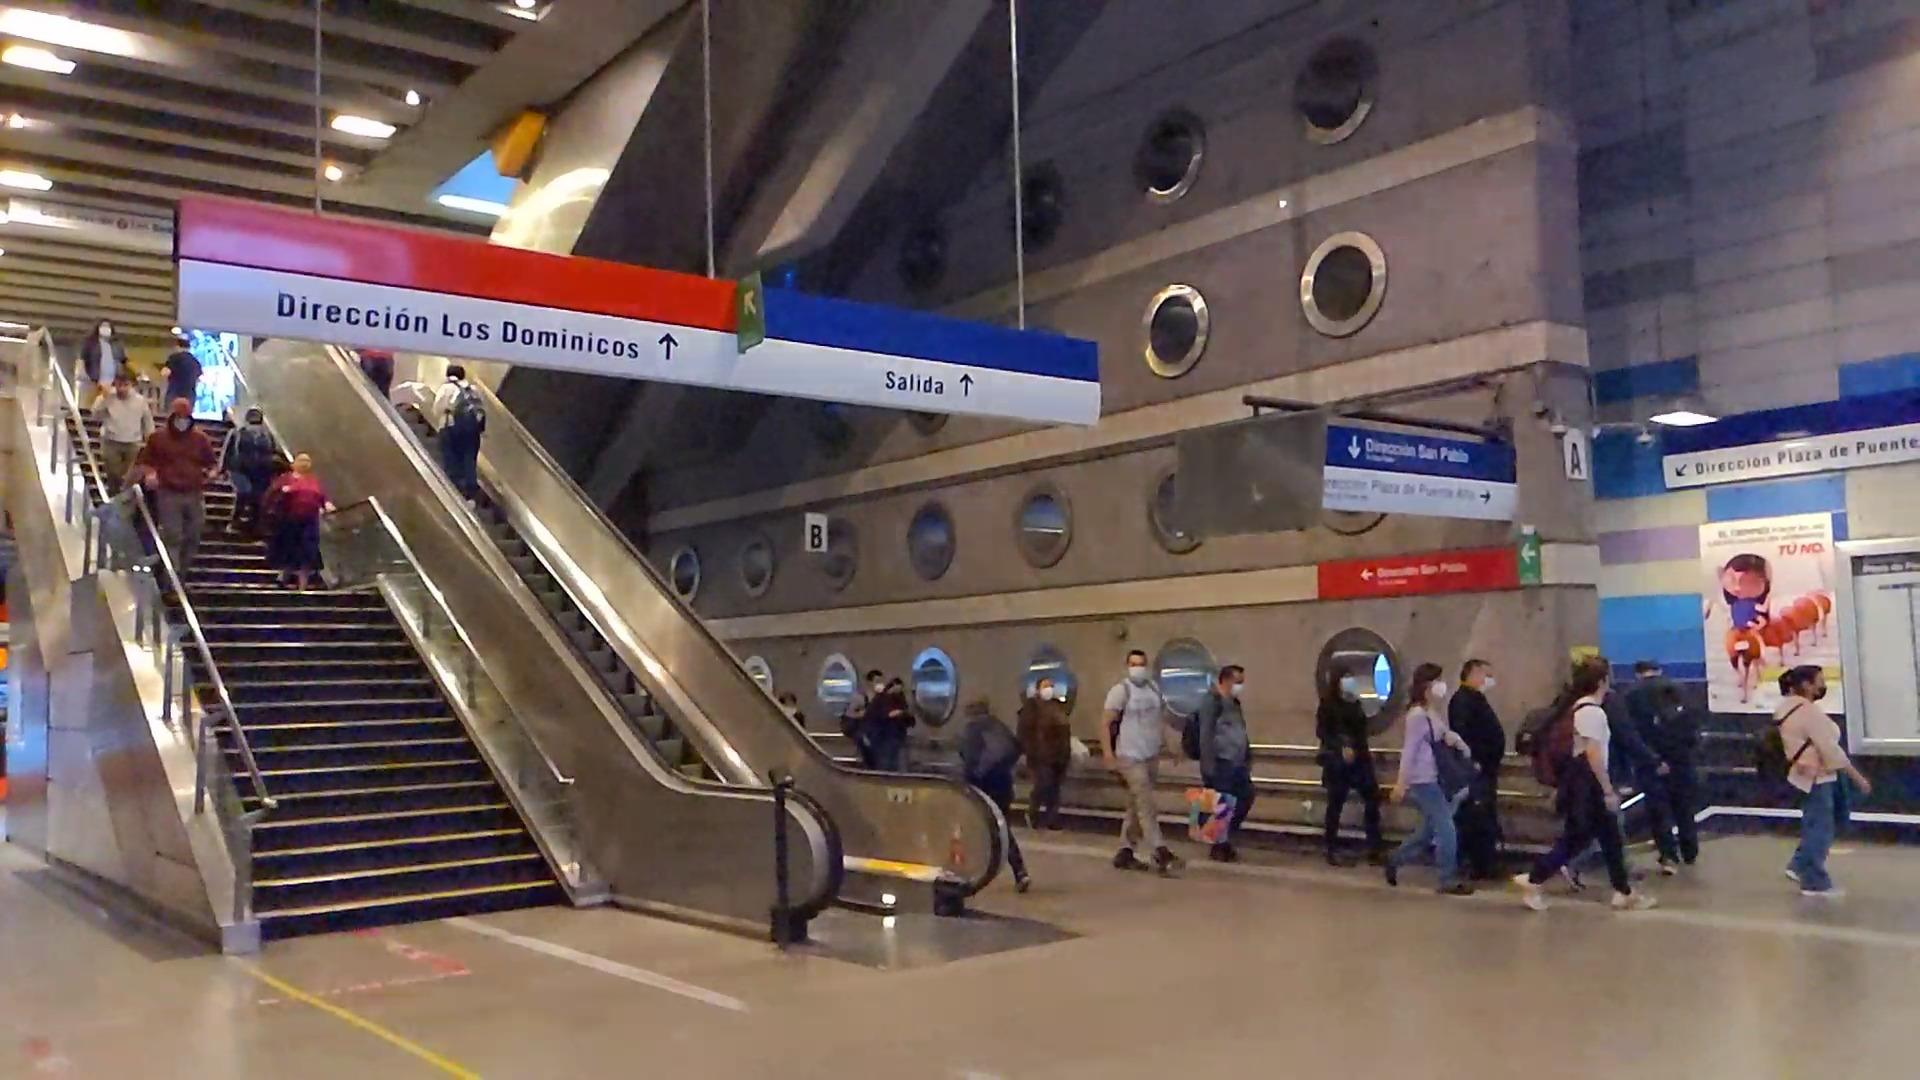down arrow: (1346, 434, 1362, 460)
emergency left arrow: (1520, 542, 1536, 564)
left arrow: (1360, 567, 1375, 583)
up arrow: (657, 331, 682, 363), (957, 372, 976, 398)
